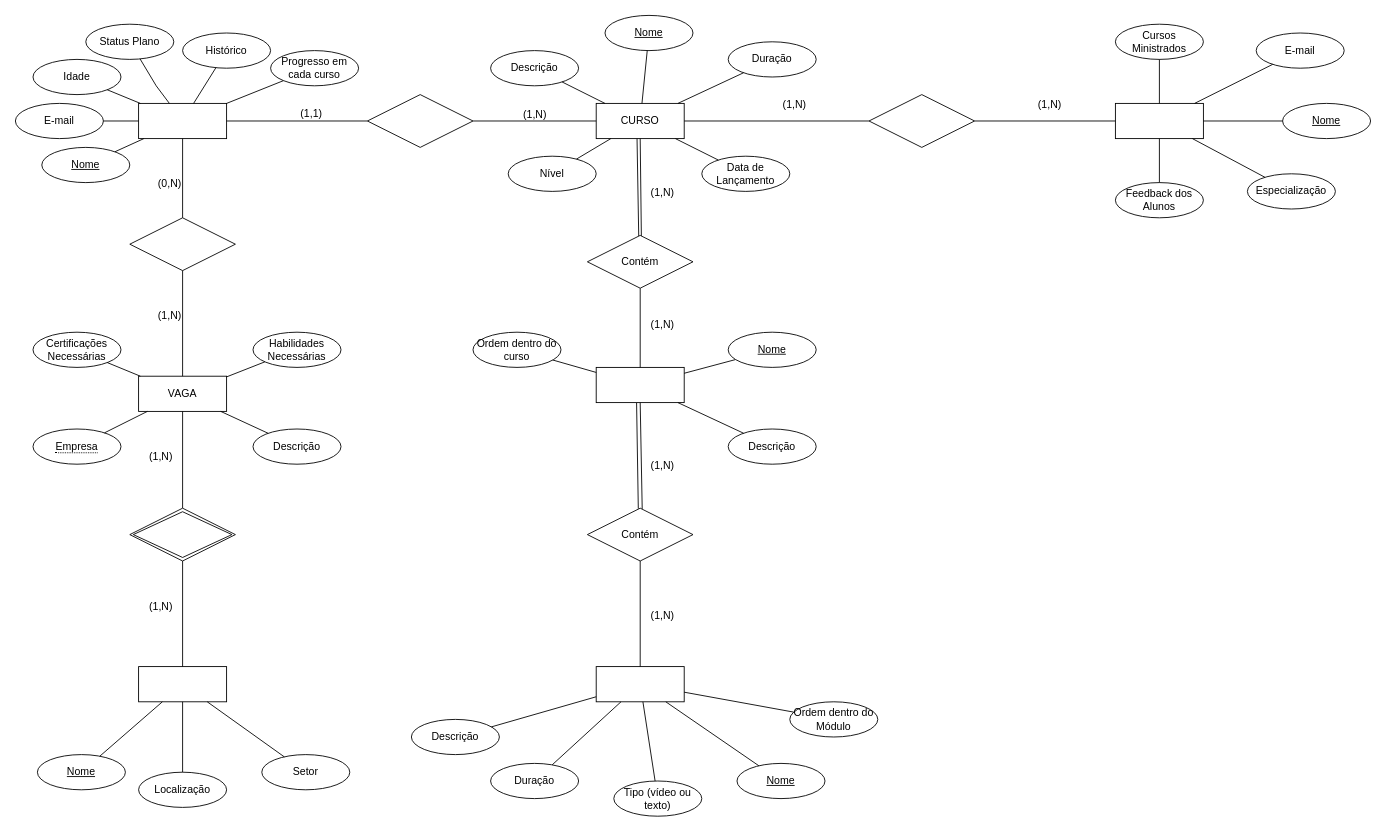
The diagram is 1386 pixels wide and 832 high, and some of its shapes have lost their labels. Here are the shapes that lost their labels. From the top down, the box of each, then its label:
(138, 103, 227, 139): ALUNO
(367, 94, 473, 147): Estudam
(868, 94, 975, 147): Ministram
(1115, 103, 1203, 139): PROFESSOR
(129, 217, 235, 271): SE QUALIFICAM
(595, 367, 684, 403): MÓDULO
(129, 507, 235, 561): Oferecem
(138, 666, 227, 702): EMPRESAS
(595, 666, 684, 702): AULA
